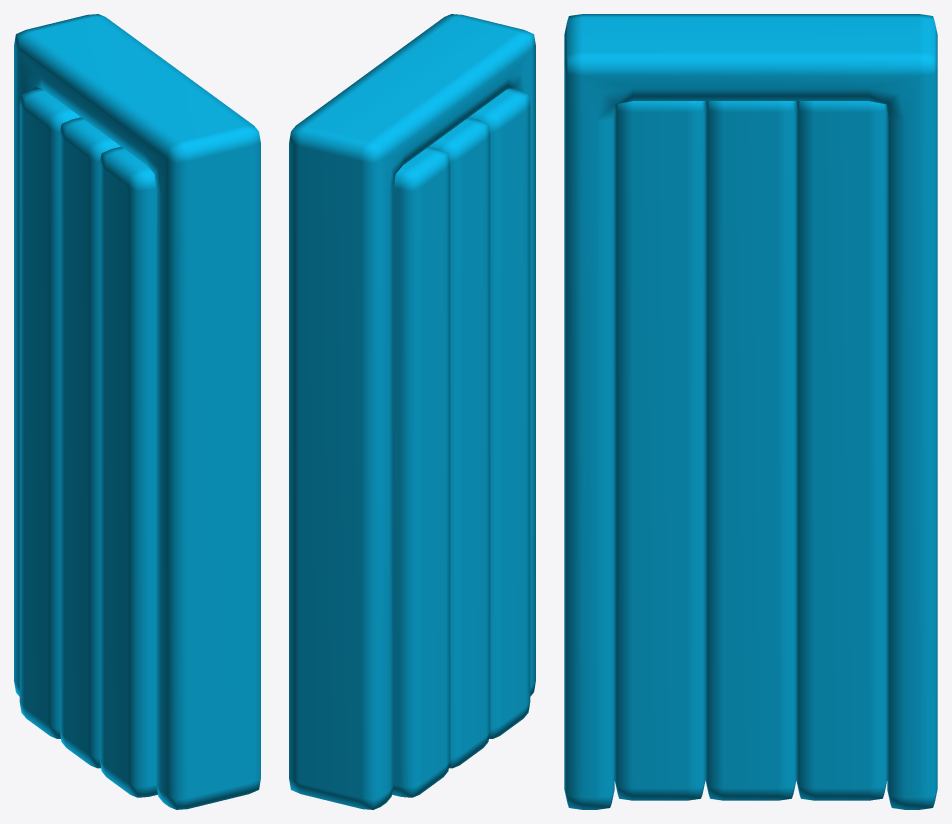
File: SM_Clay_Door_02.fbx
The picture shows the model from 3 angles, left to right: view 1: azimuth 30°, elevation 25°; view 2: azimuth 150°, elevation 25°; view 3: azimuth 270°, elevation 25°; orthographic projection. The views are drawn at different scales.
Parts seen in each view (by area): view 1: SM_Clay_Door_02; view 2: SM_Clay_Door_02; view 3: SM_Clay_Door_02.
Boxes of the visible parts, bbox=[...] form: SM_Clay_Door_02: bbox=[14, 14, 260, 809]; SM_Clay_Door_02: bbox=[289, 14, 535, 809]; SM_Clay_Door_02: bbox=[564, 14, 937, 809].
Size of the model in its own units: 0.2183 by 1.31 by 0.5866.
